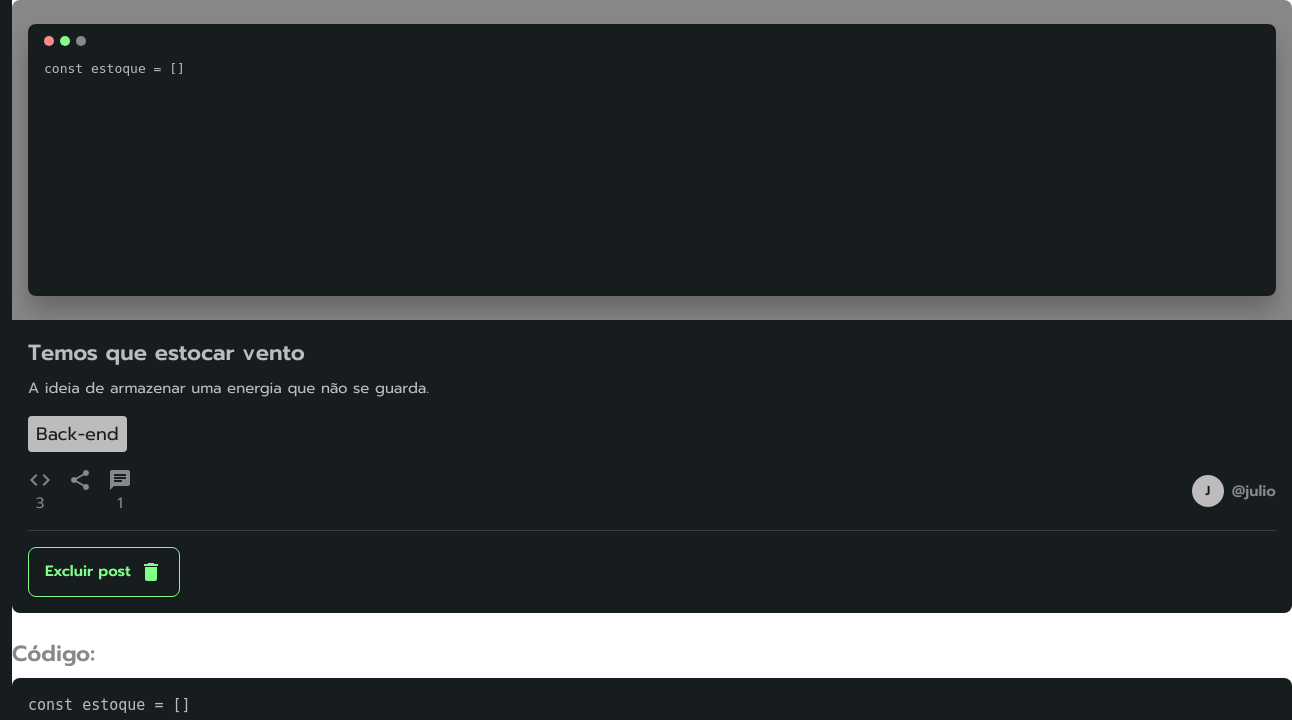
Test: PostDetail › lets the author cancel the deletion
Click the button "Excluir post": [104, 572] box [28,547,180,597]
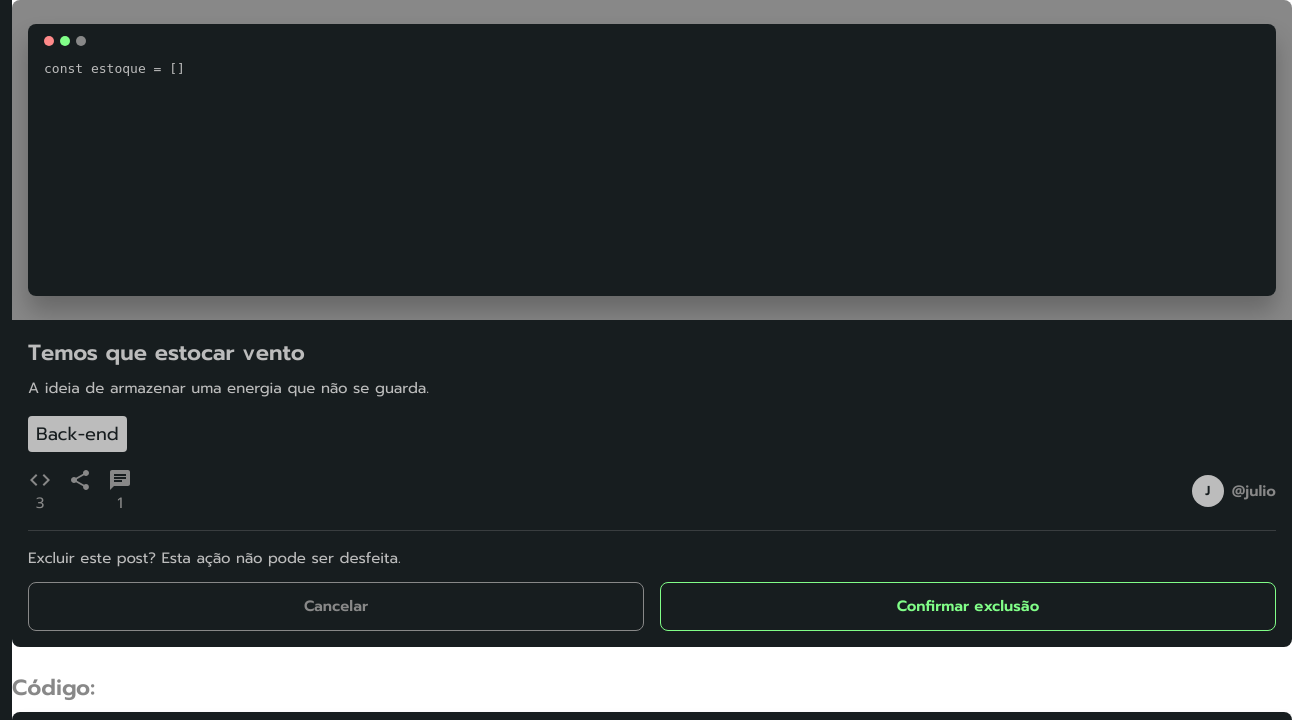
Click the button "Cancelar": [336, 606] box [28,582,644,631]
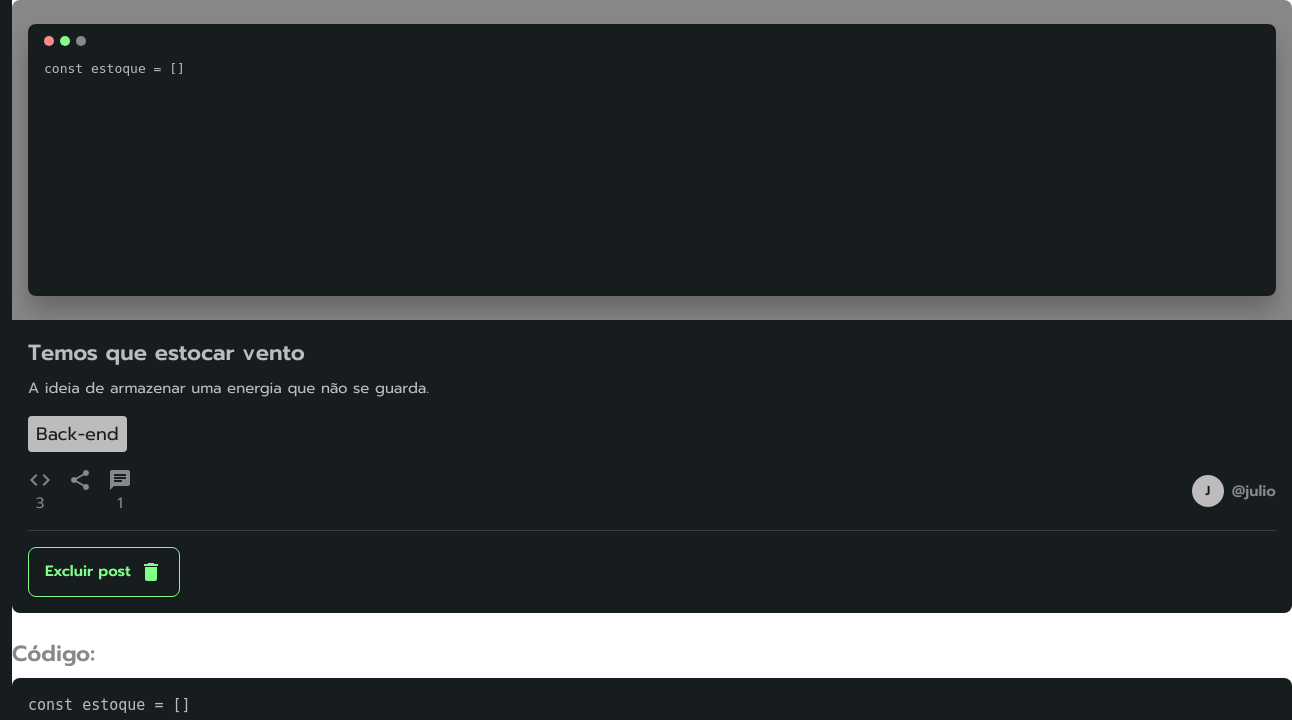
Expected: the button "Excluir post" is shown, [28,547,180,597]
